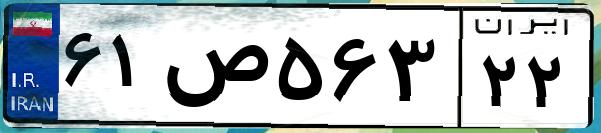1: (110, 28, 158, 98)
2: (475, 38, 525, 113), (525, 38, 570, 115)
3: (385, 28, 445, 110)
5: (270, 28, 330, 110)
6: (330, 28, 385, 110), (57, 26, 110, 100)
ص: (158, 20, 270, 120)
